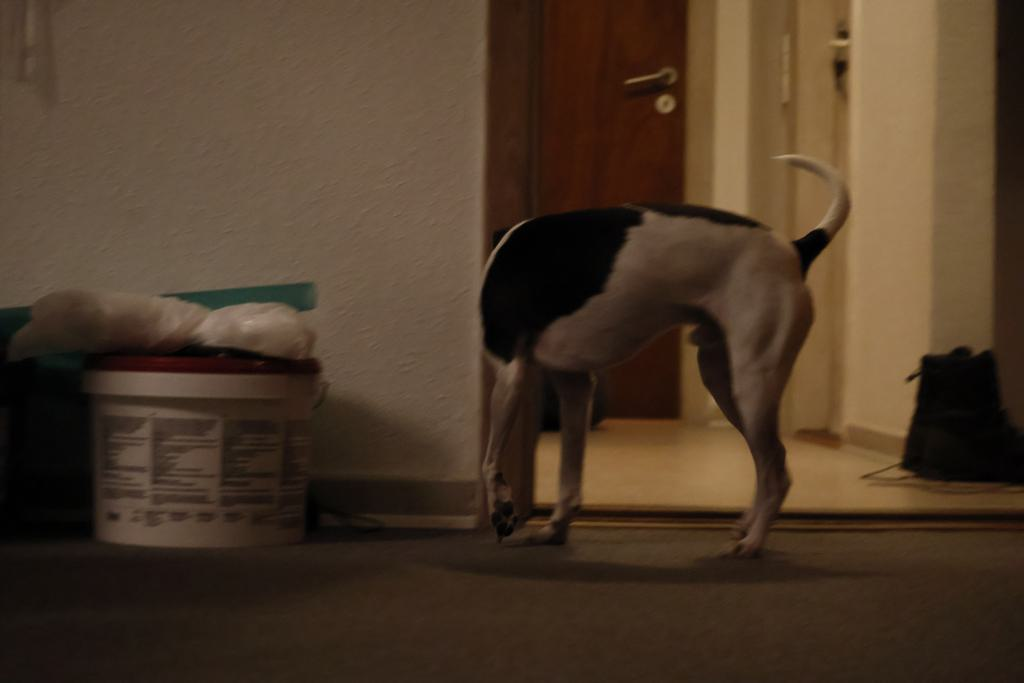Dog: (464, 145, 862, 569)
